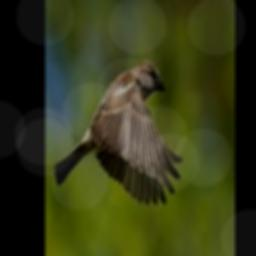Sparrow: (54, 60, 183, 204)
